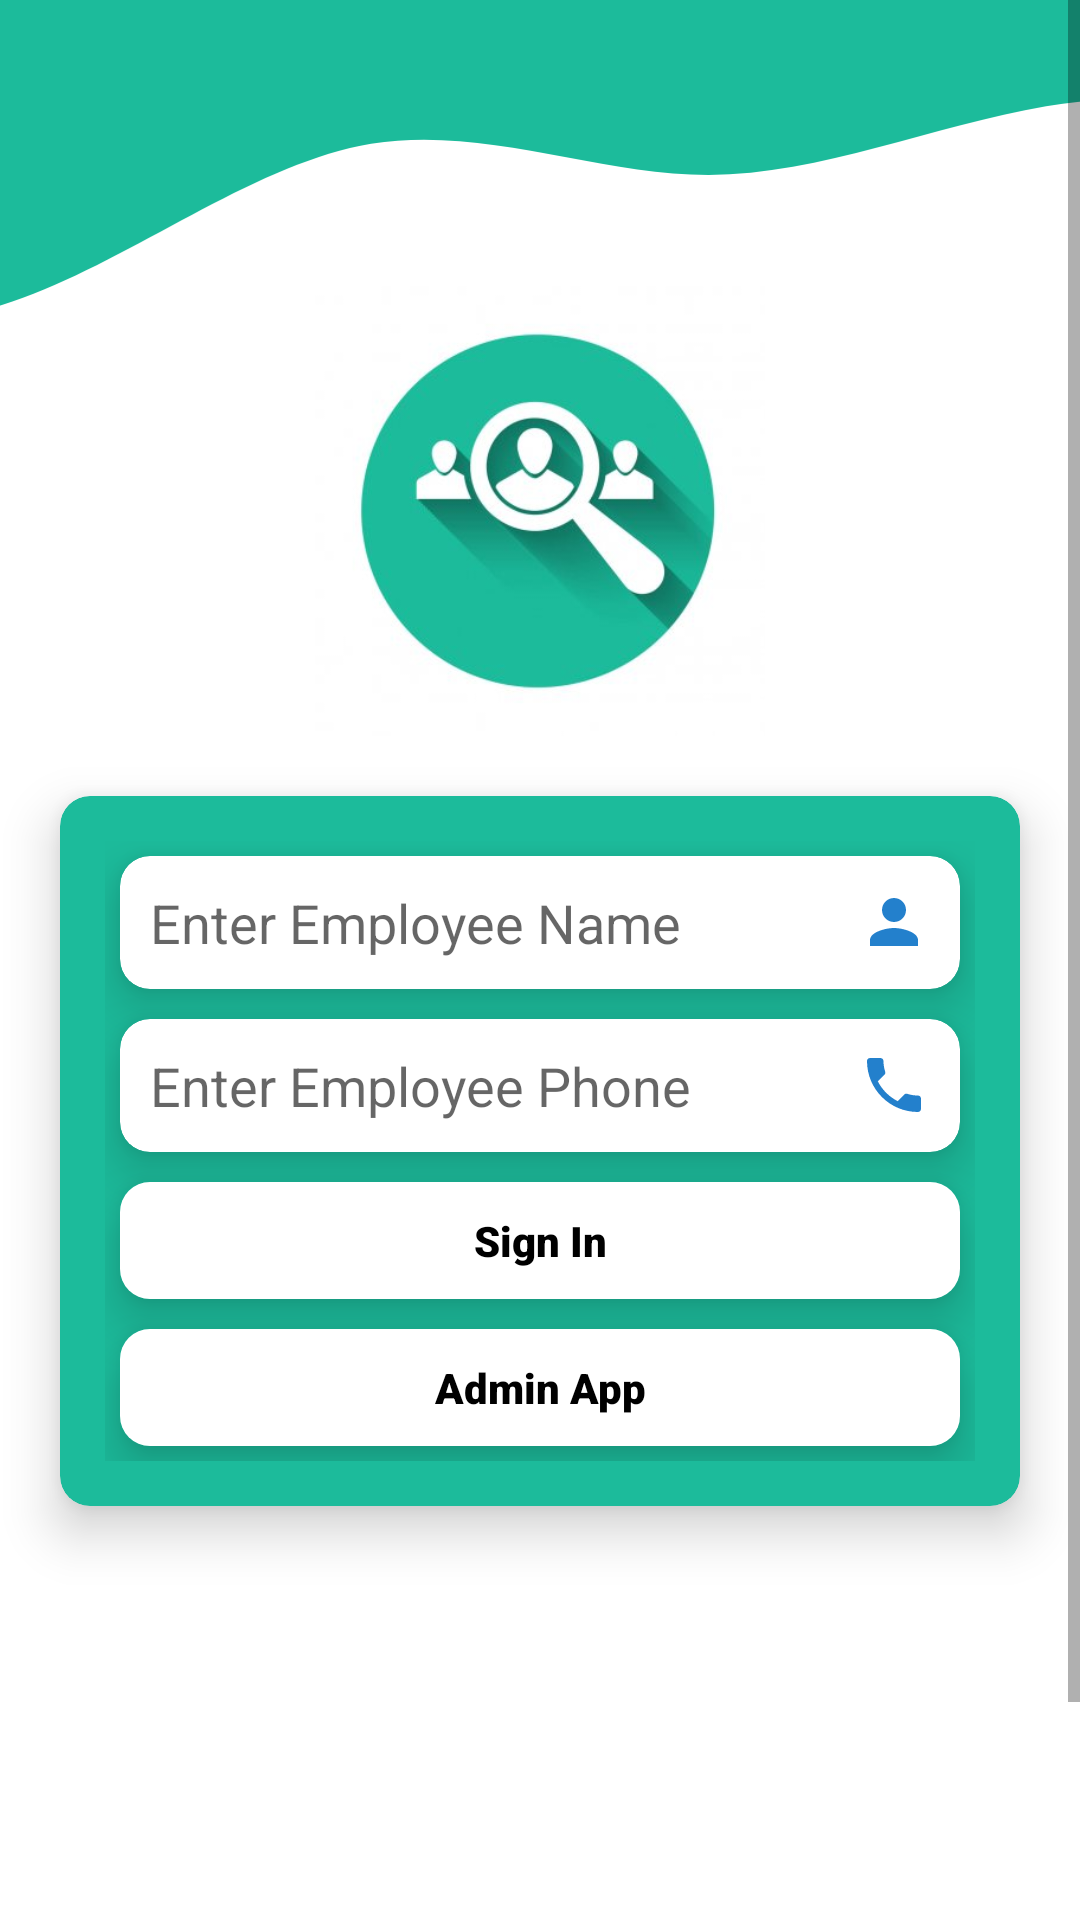

Icons on this 1080px x 1920px Android screen, each with the point to tap as (x=x, y=y):
employeeappicons: (x=538, y=511)
